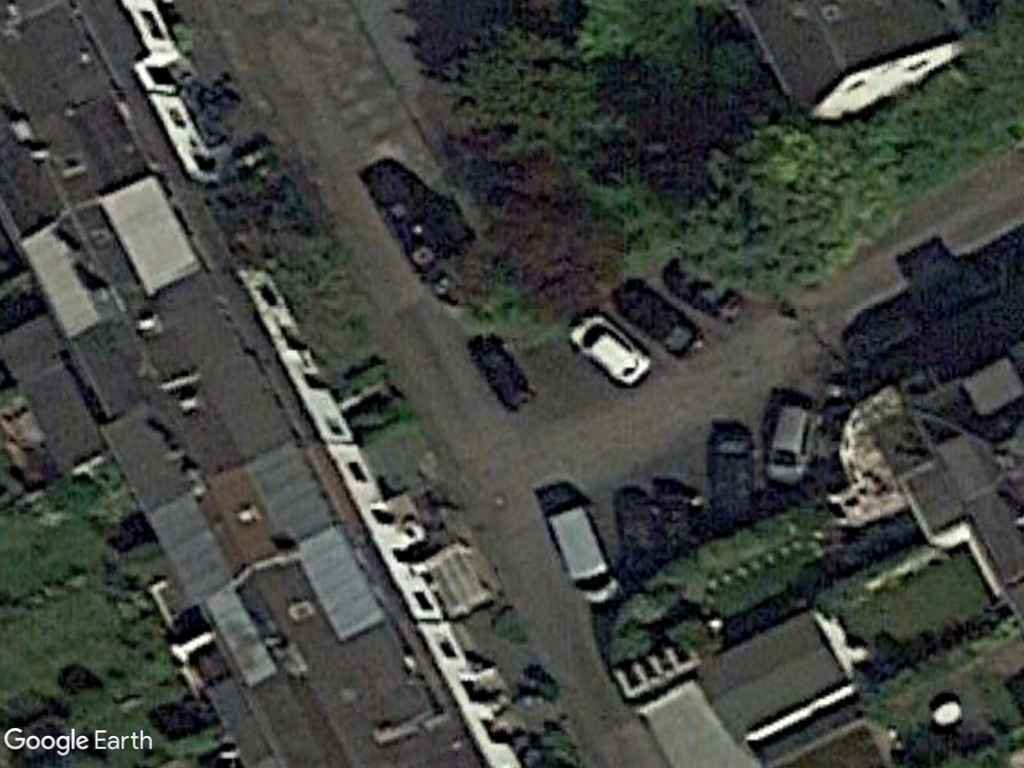car: (559, 296, 655, 399), (757, 395, 821, 490)
van: (536, 496, 626, 609)
